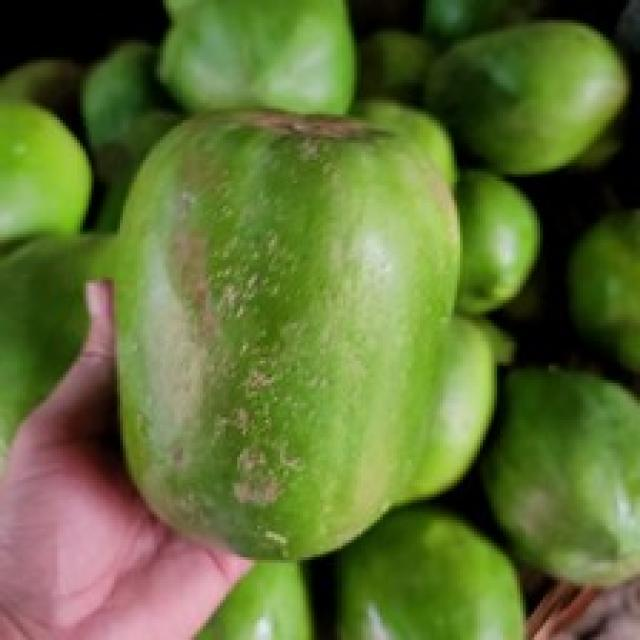Pepaya unrippen: (100, 90, 482, 560)
